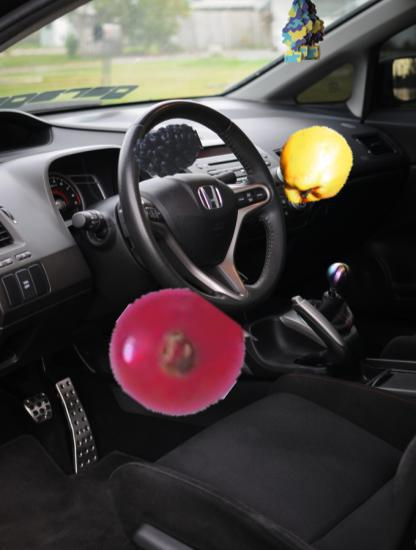Mulberry: (133, 117, 202, 186)
Quince: (273, 124, 357, 208)
Redcurrant: (108, 287, 242, 421)
